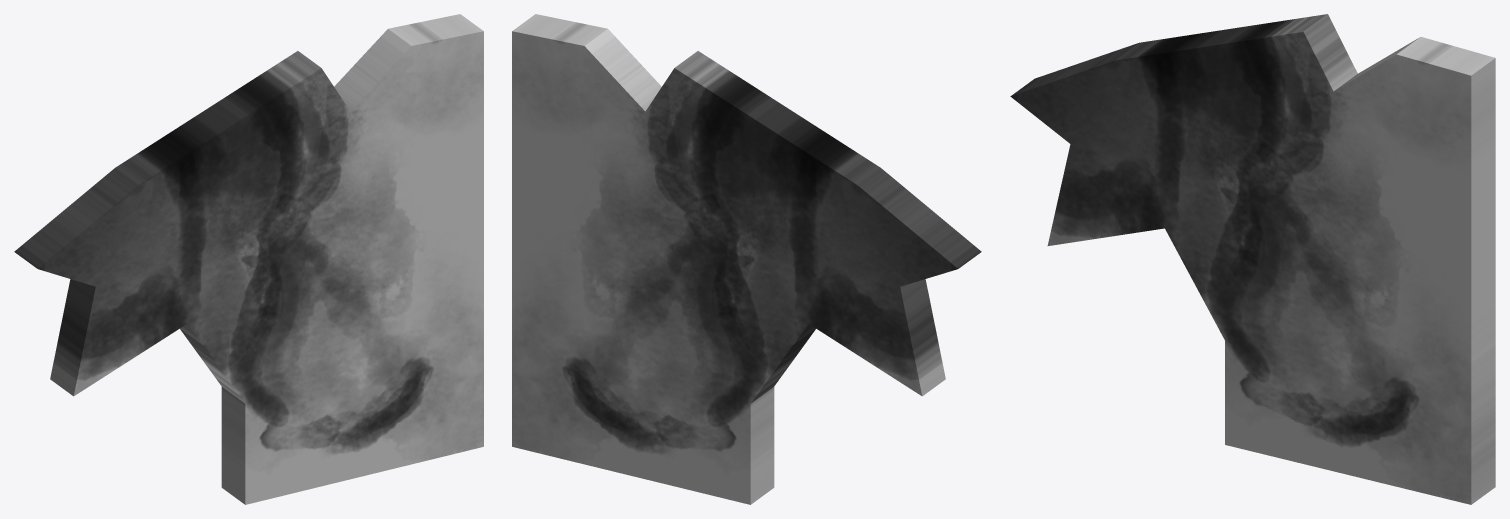
The model's file is Rorschachtest 4.fbx.
The picture shows the model from 3 angles, left to right: view 1: azimuth 30°, elevation 25°; view 2: azimuth 150°, elevation 25°; view 3: azimuth 330°, elevation 25°; orthographic projection. The views are drawn at different scales.
Visible parts, largest first — view 1: Rohrschachtest 4; view 2: Rohrschachtest 4; view 3: Rohrschachtest 4.
Part boxes in pixels (box(x1,y1,x2,y2)): Rohrschachtest 4: box(14, 14, 483, 504); Rohrschachtest 4: box(512, 14, 981, 504); Rohrschachtest 4: box(1010, 14, 1495, 504).
Bounding box in the file's own units: 23.28 × 20.86 × 2.13.
